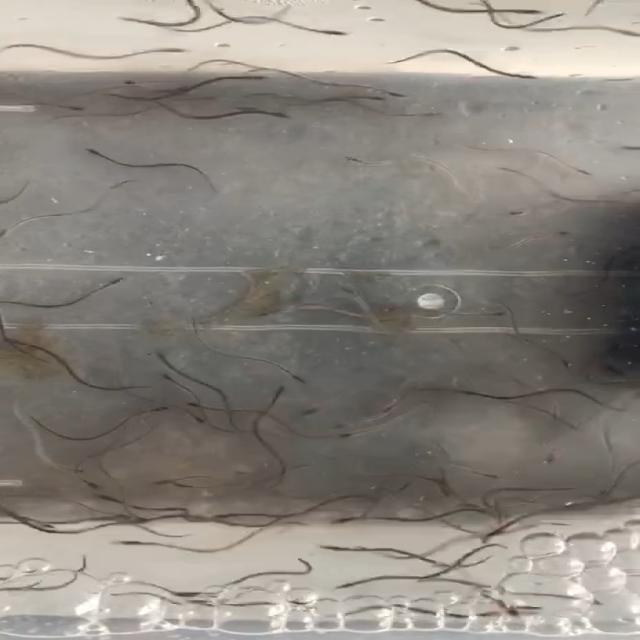active_glass_eel: (524, 12, 576, 27), (146, 44, 188, 59), (300, 28, 352, 40), (341, 154, 385, 168), (53, 99, 88, 116), (382, 86, 420, 101), (474, 306, 514, 320), (100, 273, 131, 291), (0, 332, 31, 350), (148, 368, 180, 385), (261, 110, 306, 122), (264, 382, 291, 402), (494, 600, 521, 620), (144, 348, 172, 367), (288, 366, 317, 384), (490, 166, 530, 179), (502, 2, 539, 16), (80, 146, 112, 162), (354, 92, 392, 105), (556, 163, 594, 176), (534, 449, 562, 466), (506, 70, 545, 82), (549, 354, 575, 372), (607, 24, 640, 38), (330, 512, 368, 524), (120, 73, 152, 87), (110, 535, 150, 546), (313, 540, 352, 551), (261, 308, 296, 320), (0, 220, 22, 239), (152, 475, 185, 487), (296, 405, 322, 420), (209, 511, 247, 521), (80, 477, 108, 490), (94, 491, 121, 504), (28, 519, 59, 530), (54, 464, 88, 474), (186, 410, 210, 424), (180, 398, 208, 410), (336, 432, 363, 444), (140, 405, 171, 415), (327, 422, 358, 432), (334, 580, 368, 589), (235, 75, 273, 83), (548, 230, 586, 238), (504, 207, 537, 216), (170, 480, 198, 490), (417, 110, 448, 119), (477, 470, 502, 481)
